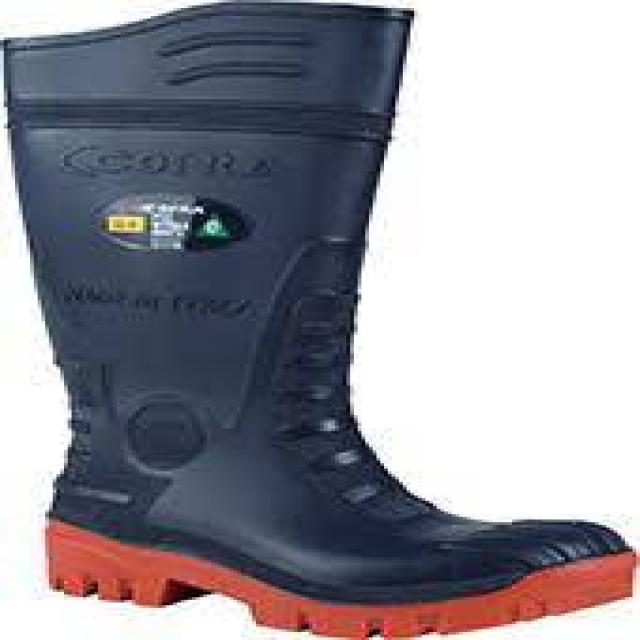shoes: (8, 3, 634, 639)
